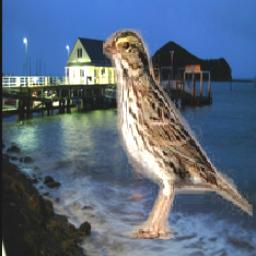Sparrow: (104, 28, 254, 239)
